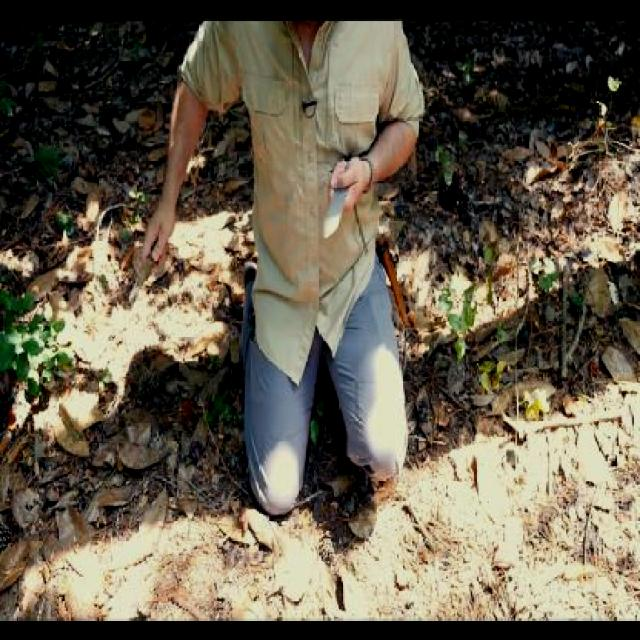knife: (322, 151, 363, 246)
